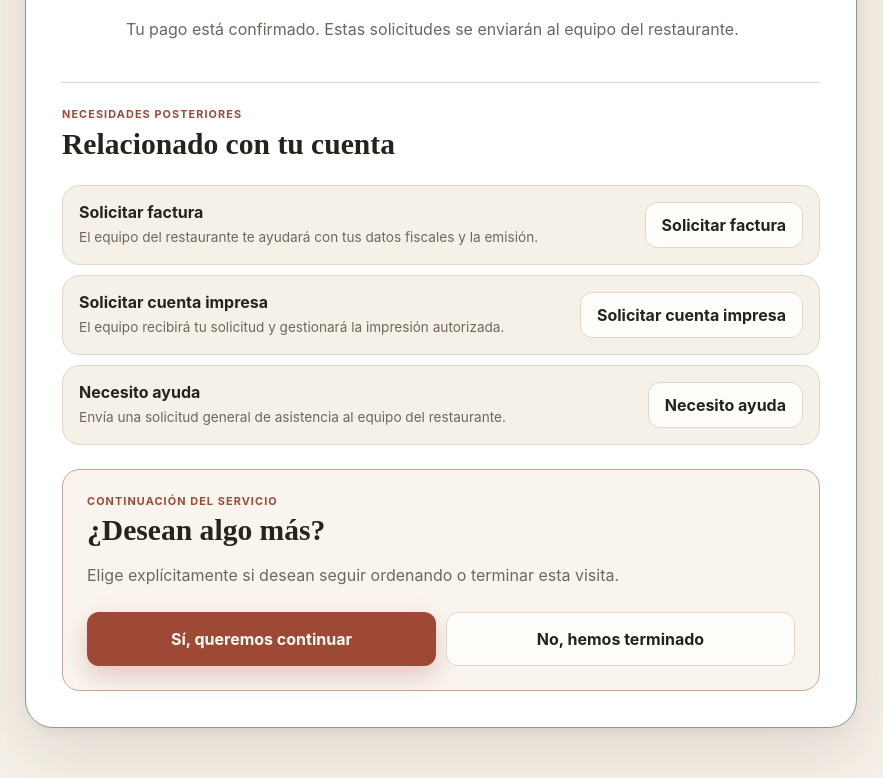
it: diner payment status and settlement experience › submits explicit NO, uses the authoritative diner closure path and presents SESSION_CLOSED
(page scrolled)
Click the button "No, hemos terminado" at (620, 639), box [446,612,795,666]
(page scrolled)
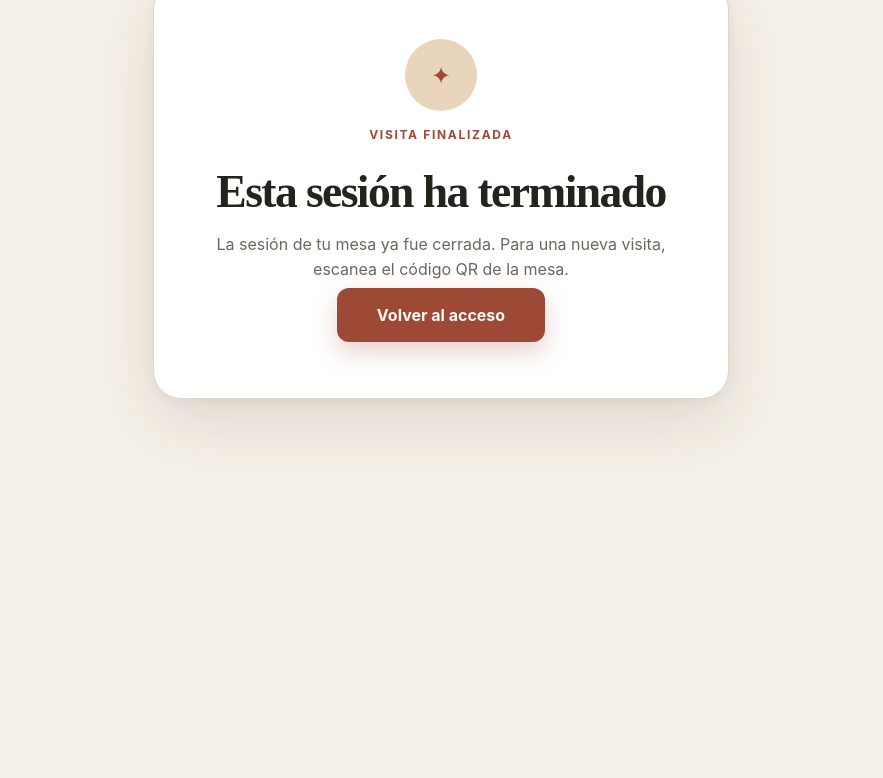
Check: the heading "Esta sesión ha terminado" is shown, box [216,168,666,216]
